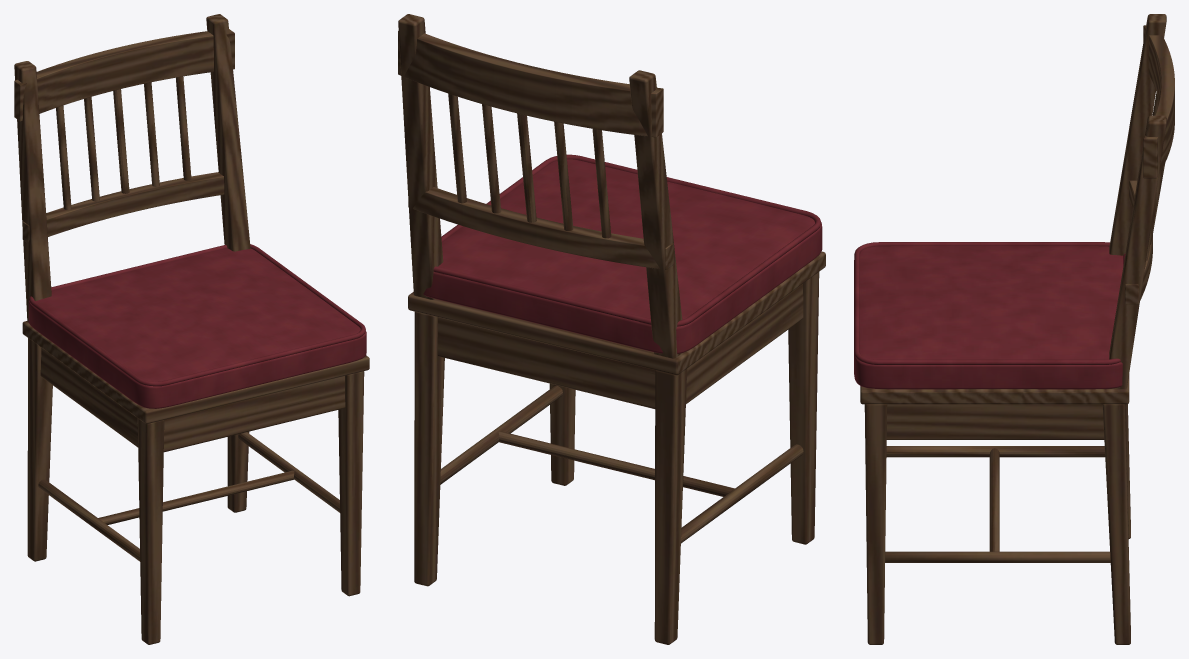
File: chair.glb
3 views of the same model, side by side, from view 1: azimuth 30°, elevation 25°; view 2: azimuth 150°, elevation 25°; view 3: azimuth 270°, elevation 25° (orthographic). The views are drawn at different scales.
Visible parts, largest first — view 1: ChairFrame, ChairSeat; view 2: ChairFrame, ChairSeat; view 3: ChairFrame, ChairSeat.
Boxes of the visible parts, box(x1,y1,x2,y2) form: ChairFrame: box(14, 14, 369, 644); ChairSeat: box(28, 244, 366, 408); ChairFrame: box(398, 14, 825, 644); ChairSeat: box(423, 154, 822, 353); ChairFrame: box(860, 14, 1174, 644); ChairSeat: box(854, 242, 1129, 389).
Bounding box in the file's own units: 0.455 × 0.92 × 0.5129.
Materials: 2 (2 with a texture image).
